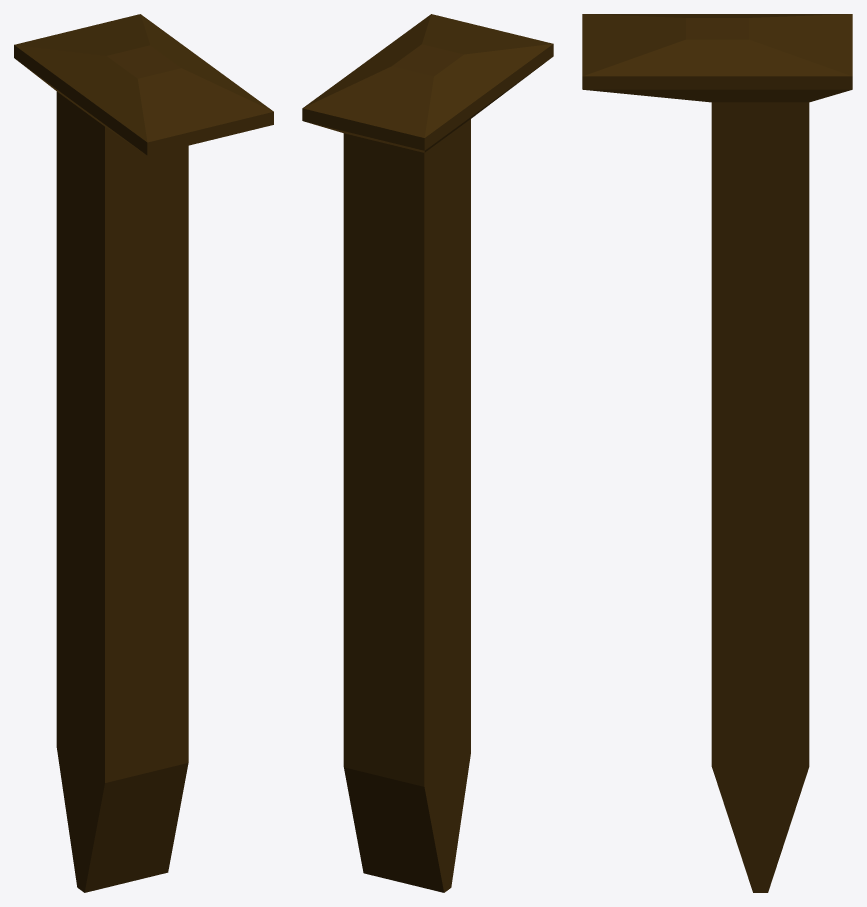
File: goldenspike.obj
The picture shows the model from 3 angles, left to right: view 1: azimuth 30°, elevation 25°; view 2: azimuth 150°, elevation 25°; view 3: azimuth 270°, elevation 25°; orthographic projection. The views are drawn at different scales.
Visible parts, largest first — view 1: Cube; view 2: Cube; view 3: Cube.
Part boxes in pixels (left/top/right/bottom): Cube: left=14, top=14, right=273, bottom=892; Cube: left=302, top=14, right=553, bottom=892; Cube: left=582, top=14, right=852, bottom=892.
Bounding box in the file's own units: 1.13 × 7.11 × 2.06.
